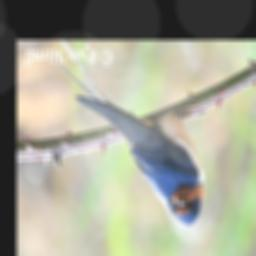Swallow: (51, 53, 208, 229)
